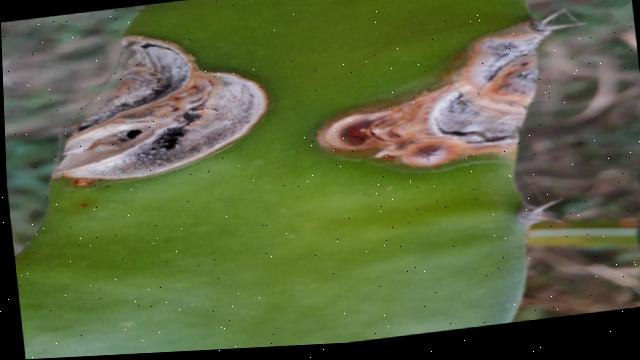stemcanker: (35, 25, 284, 201), (307, 20, 565, 179)
